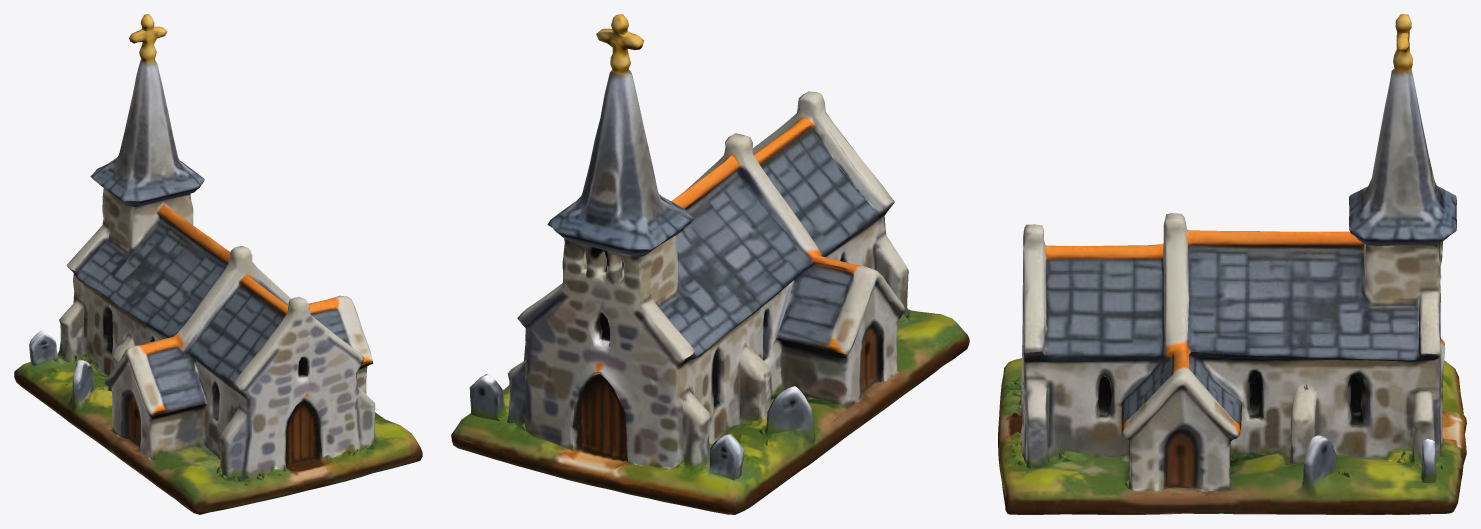
The model's file is church_b.glb.
3 views of the same model, side by side, from view 1: azimuth 30°, elevation 25°; view 2: azimuth 150°, elevation 25°; view 3: azimuth 270°, elevation 25° (orthographic). The views are drawn at different scales.
Parts seen in each view (by area): view 1: world; view 2: world; view 3: world.
Part boxes in pixels (x1,y1,x2,y2): world: (14, 14, 422, 514); world: (451, 14, 969, 514); world: (998, 14, 1466, 514).
Size of the model in its own units: 0.6787 by 0.9979 by 0.9737.
1 material, 1 textured.
